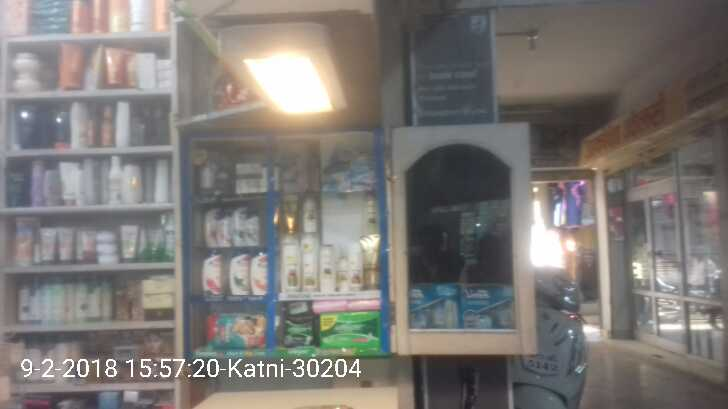venus: (461, 282, 513, 327), (410, 284, 461, 327)
